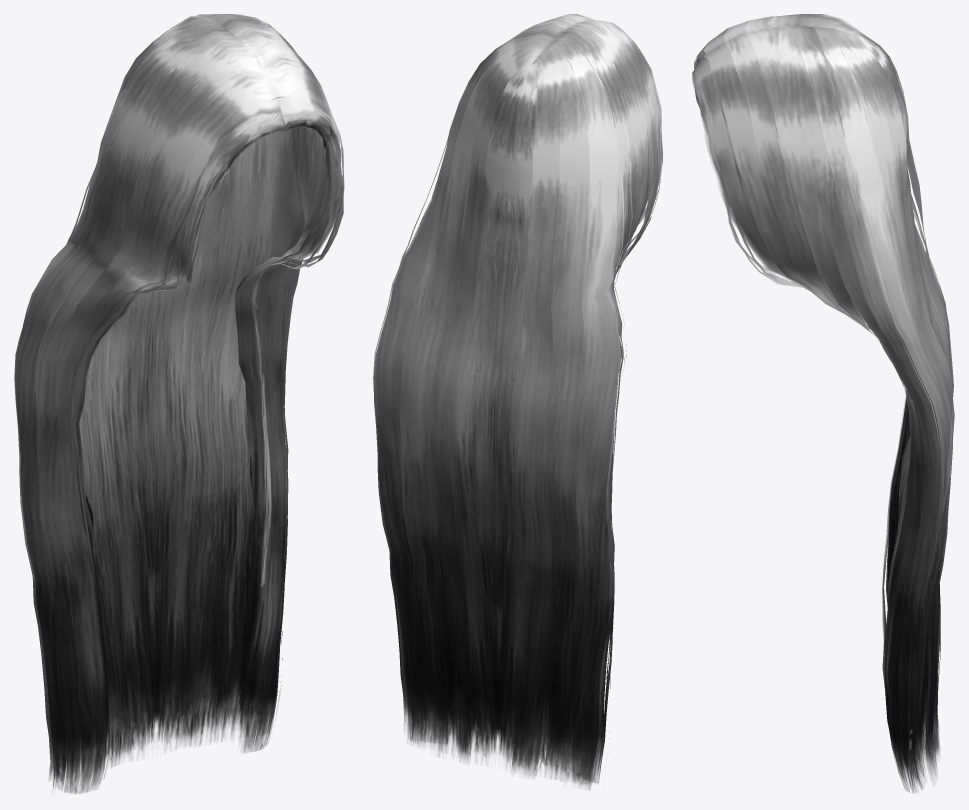
File: hair_long01.gltf
The picture shows the model from 3 angles, left to right: view 1: azimuth 30°, elevation 25°; view 2: azimuth 150°, elevation 25°; view 3: azimuth 270°, elevation 25°; orthographic projection. The views are drawn at different scales.
Visible parts, largest first — view 1: hair_long01; view 2: hair_long01; view 3: hair_long01.
Part boxes in pixels (left/top/right/bottom): hair_long01: left=14, top=14, right=344, bottom=793; hair_long01: left=373, top=14, right=662, bottom=789; hair_long01: left=692, top=14, right=954, bottom=793.
Size of the model in its own units: 0.2588 by 0.7115 by 0.2316.
1 material, 1 textured.
